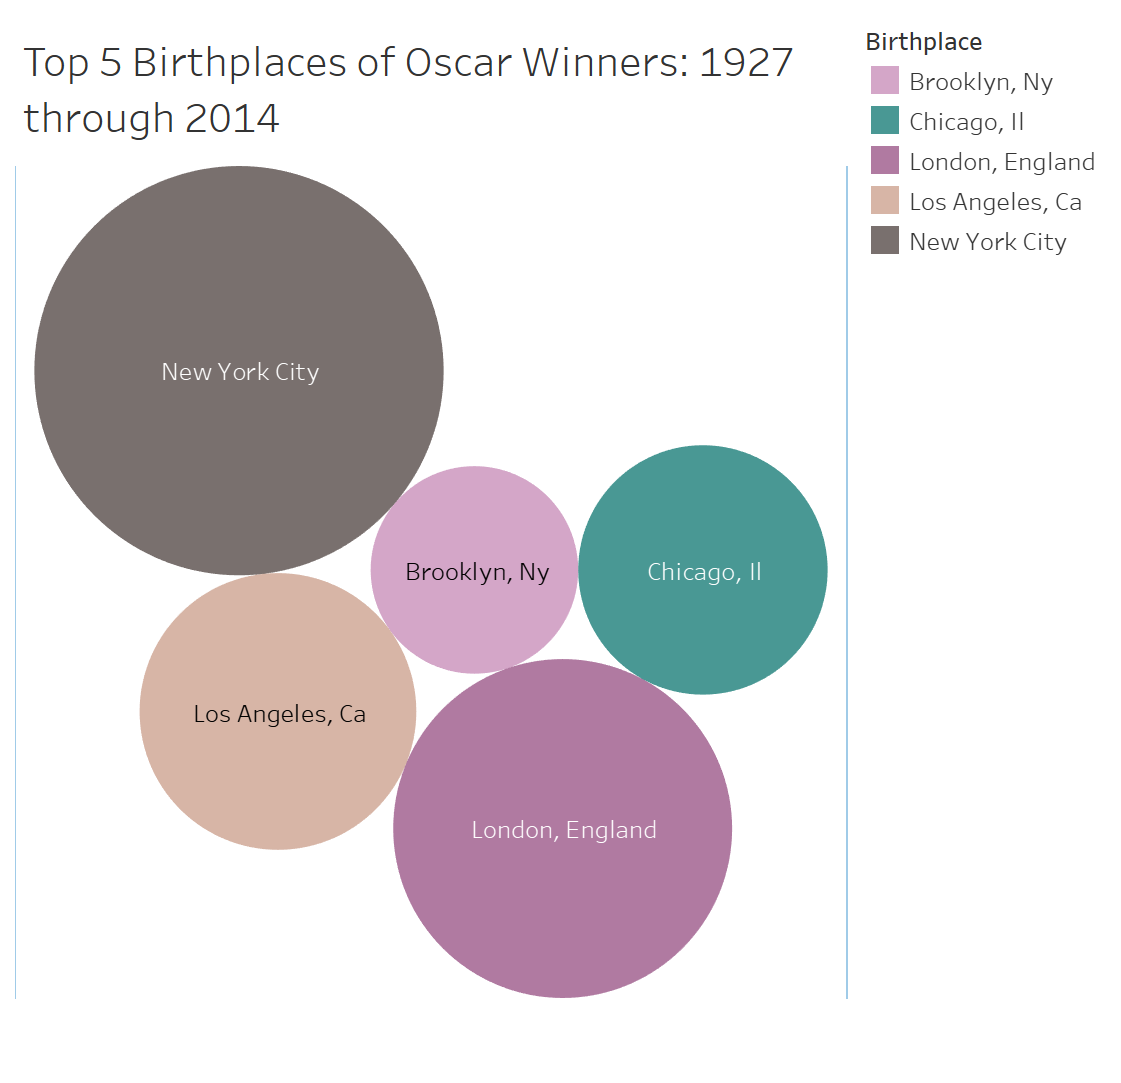

What the dashboard file says about the page in this screenshot:
{"tool":"tableau","page":{"name":"BirthPlace","canvas":[650,860],"ordinal":3},"visuals":[{"type":"worksheet","title":"Top 5 Birthplaces of Winners","mark":"Circle","box":[8,12.3,425,835.4]},{"type":"legend","title":"Top 5 Birthplaces of Winners","param":"[federated.0prdzp90t39lti1d2y92r0gr8idn].[none:birthplace:nk]","box":[433,12.3,209,835.4]}]}

Visuals, with their boxes on the page's 650x860 design canvas (x1, y1, x2, y2). These are canvas units, not pixel positions in the 1121x1083 screenshot, which may show the page scaled, cropped or inside an application window:
"Top 5 Birthplaces of Winners" worksheet (Circle marks): bbox(8, 12, 433, 848)
"Top 5 Birthplaces of Winners" legend: bbox(433, 12, 642, 848)
